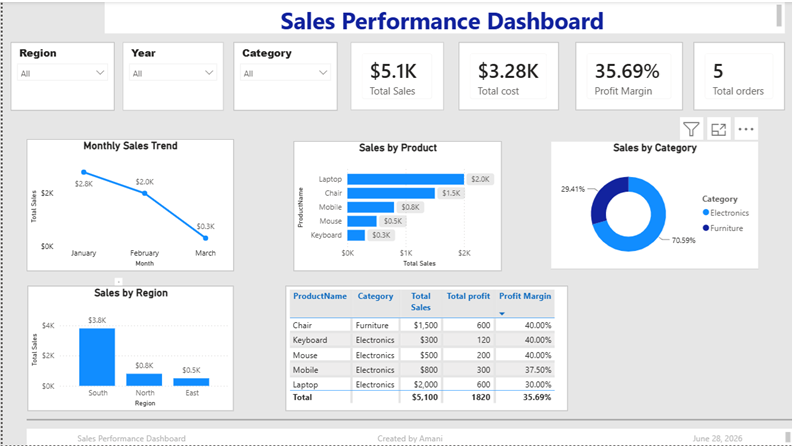

What the dashboard file says about the page in this screenshot:
{"tool":"powerbi","page":{"name":"Sales Dashboard","canvas":[1280,720],"ordinal":0},"visuals":[{"type":"cardVisual","fields":{"Data":["Customer.Total Sales"]},"box":[563.5,66.4,150.6,110.1],"z":0},{"type":"cardVisual","fields":{"Data":["Customer.Total cost"]},"box":[738.4,66.4,161.9,110.1],"z":1000},{"type":"cardVisual","fields":{"Data":["Customer.Total orders"]},"box":[1118.9,66.4,147.3,110.1],"z":2000},{"type":"cardVisual","fields":{"Data":["Customer.Profit margin%"]},"box":[927.8,66.4,173.3,110.1],"z":3000},{"type":"lineChart","title":"Monthly Sales Trend","fields":{"Category":["DateTable.Month"],"Y":["Customer.Total Sales"]},"box":[38.9,223.5,335.2,213.7],"z":4000},{"type":"clusteredBarChart","title":"Sales by Product","fields":{"Category":["Product.ProductName"],"Y":["Customer.Total Sales"]},"box":[471.2,226.7,336.8,210.5],"z":5000},{"type":"donutChart","title":"Sales by Category","fields":{"Category":["Product.Category"],"Y":["Customer.Total Sales"]},"box":[887.3,226.7,336.8,207.3],"z":6000},{"type":"tableEx","fields":{"Values":["Product.ProductName","Product.Category","Customer.Total Sales","Customer.Total profit","Customer.Profit Margin %"]},"box":[458.6,461.9,456.9,202.9],"z":7000},{"type":"slicer","fields":{"Values":["Customer.Region"]},"box":[13.2,66,168.2,110.5],"z":8000},{"type":"slicer","fields":{"Values":["Product.Category"]},"box":[374.4,66,168.2,110.5],"z":9000},{"type":"slicer","fields":{"Values":["DateTable.Year"]},"box":[194.6,66,163.3,110.5],"z":10000},{"type":"textbox","box":[165.2,0,1101.1,51.8],"z":11000},{"type":"textbox","box":[181.4,448.5,13,13],"z":12000},{"type":"shape","box":[38.9,663.9,1241.9,29.1],"z":13000},{"type":"textbox","box":[38.9,693,1241.9,27.5],"z":14000},{"type":"clusteredColumnChart","title":"Sales by Region","fields":{"Category":["Customer.Region"],"Y":["Customer.Total Sales"]},"box":[40.5,461.5,333.6,202.4],"z":15000}]}

Visuals, with their boxes in screenshot pixels (x1, y1, x2, y2), scaled from the page's 1280x720 canvas onto the 798x448 screenshot:
cardVisual - Customer.Total Sales: bbox=[351, 41, 445, 110]
cardVisual - Customer.Total cost: bbox=[460, 41, 561, 110]
cardVisual - Customer.Total orders: bbox=[698, 41, 789, 110]
cardVisual - Customer.Profit margin%: bbox=[578, 41, 686, 110]
"Monthly Sales Trend" lineChart: bbox=[24, 139, 233, 272]
"Sales by Product" clusteredBarChart: bbox=[294, 141, 504, 272]
"Sales by Category" donutChart: bbox=[553, 141, 763, 270]
tableEx - Product.ProductName x Product.Category: bbox=[286, 287, 571, 414]
slicer - Customer.Region: bbox=[8, 41, 113, 110]
slicer - Product.Category: bbox=[233, 41, 338, 110]
slicer - DateTable.Year: bbox=[121, 41, 223, 110]
textbox: bbox=[103, 0, 789, 32]
textbox: bbox=[113, 279, 121, 287]
shape: bbox=[24, 413, 797, 431]
textbox: bbox=[24, 431, 797, 447]
"Sales by Region" clusteredColumnChart: bbox=[25, 287, 233, 413]
